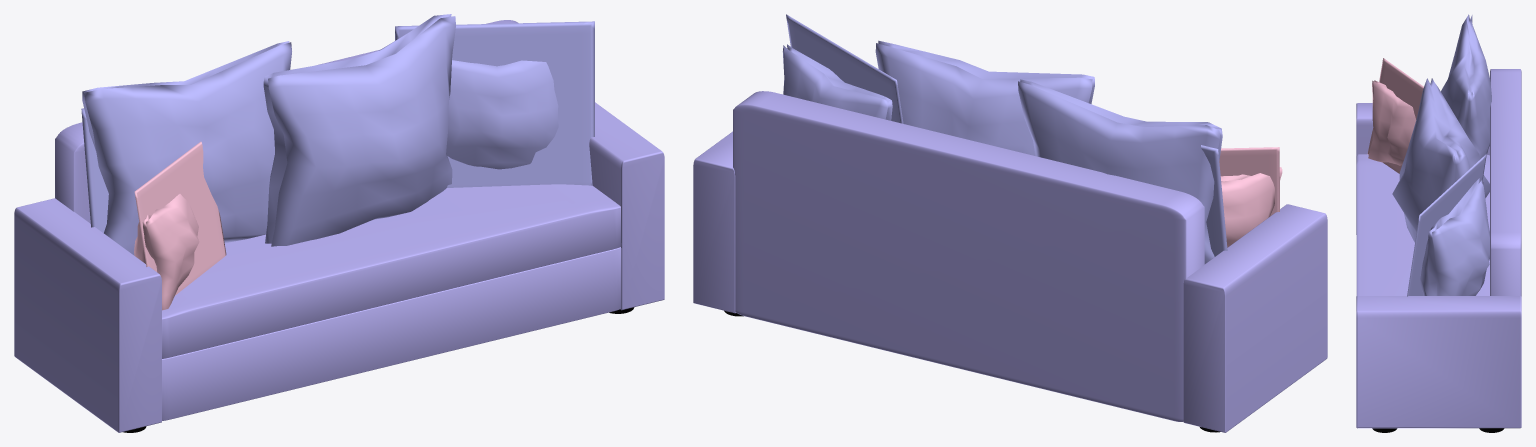
Rendered from sofa3_ver2.glb.
3 views of the same model, side by side, from view 1: azimuth 30°, elevation 25°; view 2: azimuth 150°, elevation 25°; view 3: azimuth 270°, elevation 25° (orthographic). The views are drawn at different scales.
Parts seen in each view (by area): view 1: Cube.004, Cube.006, Cube.003, Cube, Cube.005, Plane.002, Cube.007, Cube.001, Plane.004, Cube.008, Cube.002, Plane.003; view 2: Cube.002, Cube, Cube.005, Cube.006, Cube.001, Cube.007, Plane.002, Cube.008, Plane.004, Plane.003; view 3: Cube.001, Cube.002, Cube.004, Cube.006, Cube.007, Cube.005, Cube.008, Plane.002, Plane.004, Cube, Cylinder.001.
Boxes of the visible parts, x1,y1,x2,y2 form: Cube.004: (162,184,621,358); Cube.006: (263,14,455,246); Cube.003: (162,247,621,420); Cube: (14,198,161,432); Cube.005: (82,41,291,255); Plane.002: (395,21,594,187); Cube.007: (446,60,558,169); Cube.001: (589,102,664,310); Plane.004: (134,141,226,295); Cube.008: (134,194,199,310); Cube.002: (55,20,518,223); Plane.003: (81,108,108,232); Cube.002: (733,91,1204,421); Cube: (1183,204,1327,432); Cube.005: (1018,79,1222,263); Cube.006: (875,40,1094,155); Cube.001: (693,131,735,313); Cube.007: (782,44,892,120); Plane.002: (786,14,903,123); Cube.008: (1220,167,1282,247); Plane.004: (1219,147,1279,216); Plane.003: (1201,145,1227,256); Cube.001: (1356,296,1521,428); Cube.002: (1490,69,1521,296); Cube.004: (1356,154,1489,295); Cube.006: (1392,78,1489,242); Cube.007: (1420,178,1489,295); Cube.005: (1441,14,1491,159); Cube.008: (1368,80,1416,165); Plane.002: (1407,153,1486,296); Plane.004: (1367,58,1423,173); Cube: (1356,103,1489,234); Cylinder.001: (1372,428,1504,432).
Bounding box in the file's own units: 2.02 × 1.04 × 0.6761.
